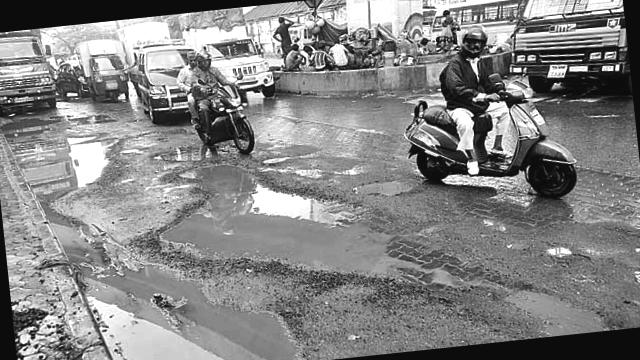Pothole: (118, 95, 640, 360), (0, 70, 318, 360), (350, 161, 428, 209)
